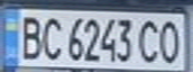2: (81, 15, 100, 62)
3: (115, 16, 136, 63)
4: (100, 15, 121, 63)
6: (63, 14, 84, 62)
B: (15, 11, 45, 61)
C: (39, 12, 66, 61), (136, 16, 163, 64)
O: (157, 16, 184, 64)
